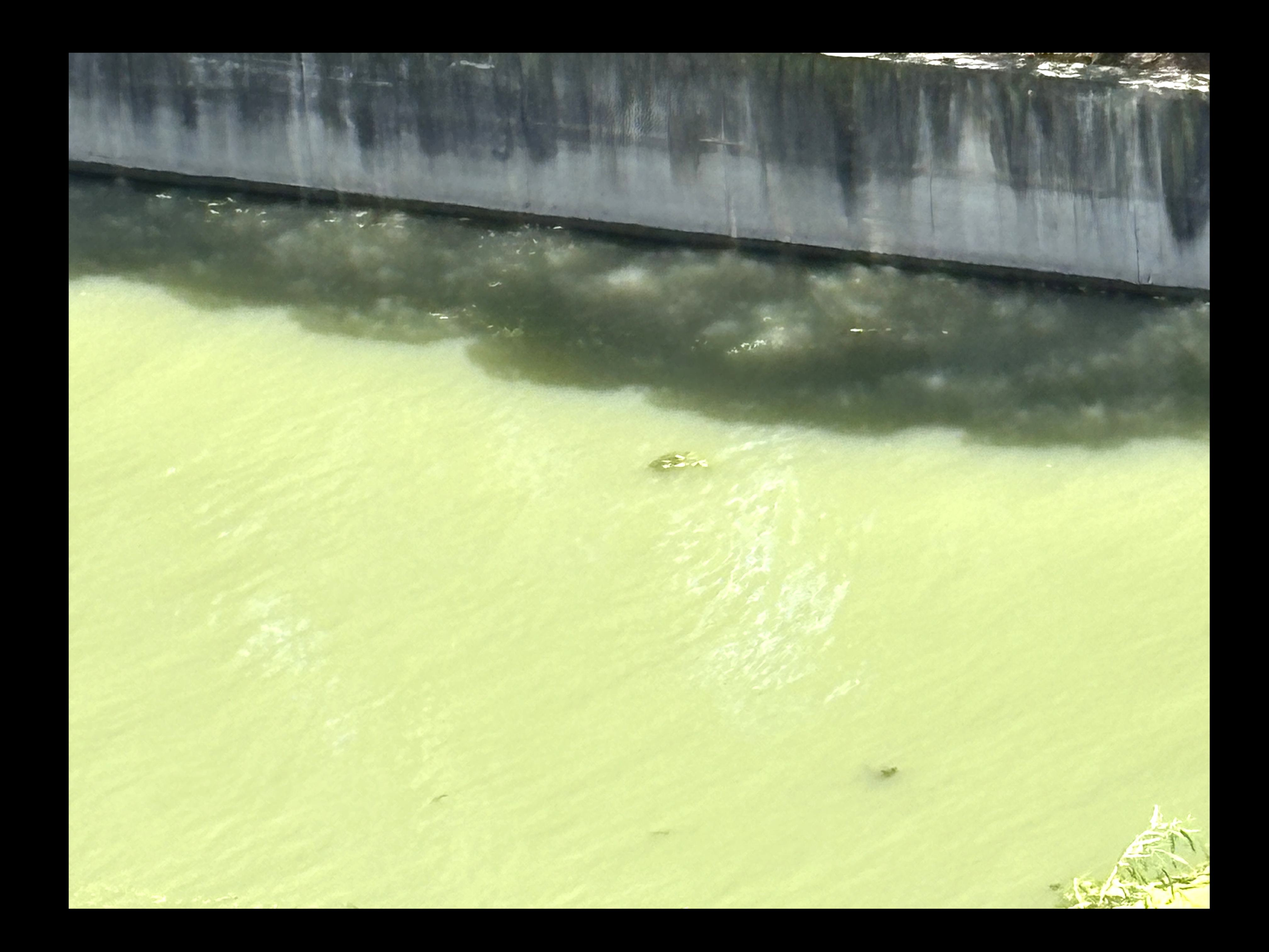Other: (652, 446, 701, 471), (878, 764, 898, 779), (426, 792, 446, 805), (651, 828, 670, 836)
